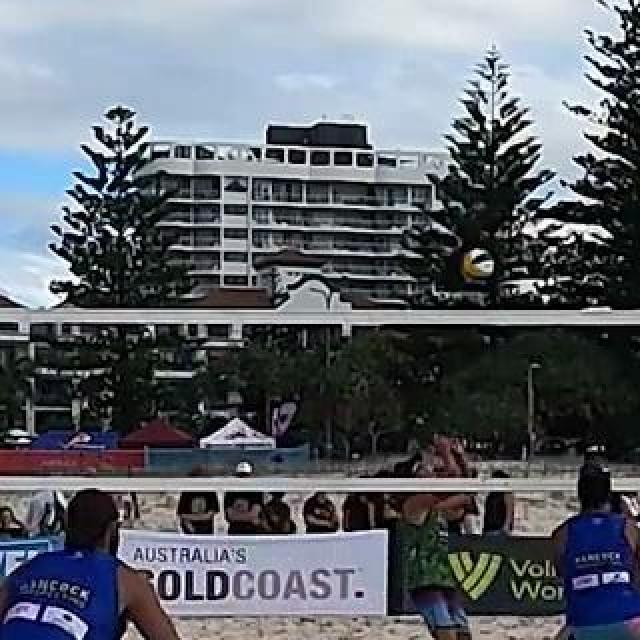volleyball: (462, 249, 492, 281)
